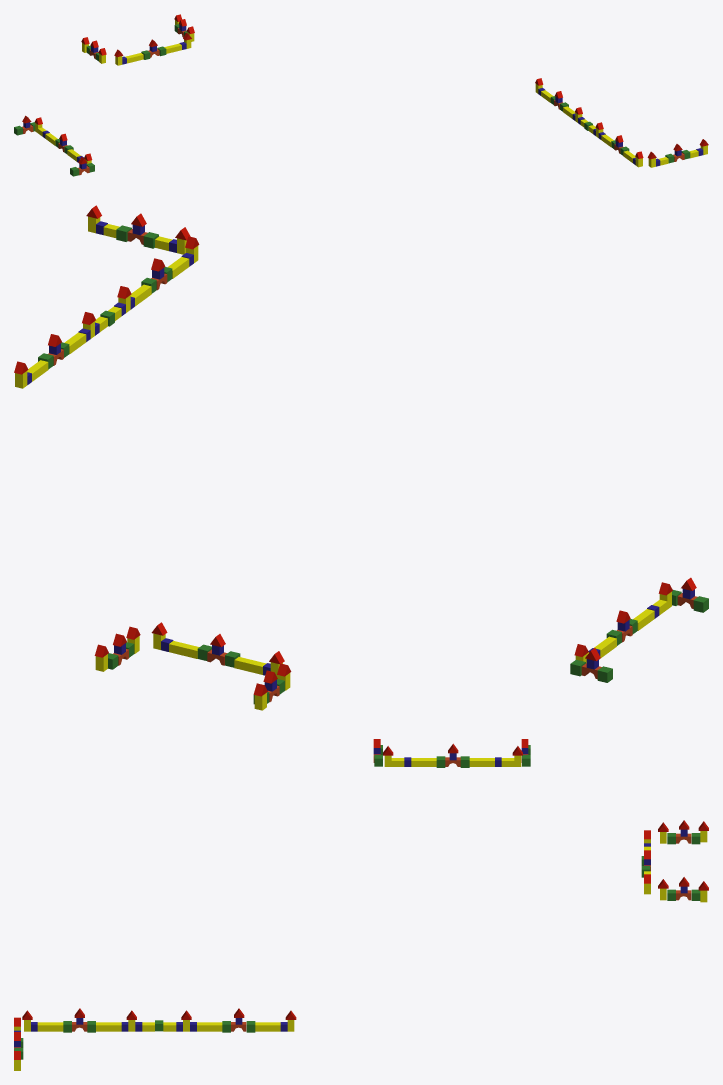
The model's file is TampaBaixo.fbx.
3 renders of one model, top to bottom at view 1: azimuth 30°, elevation 25°; view 2: azimuth 150°, elevation 25°; view 3: azimuth 270°, elevation 25°, orthographic. The views are drawn at different scales.
Bounding box in the file's own units: 22517 × 727 × 20636.
